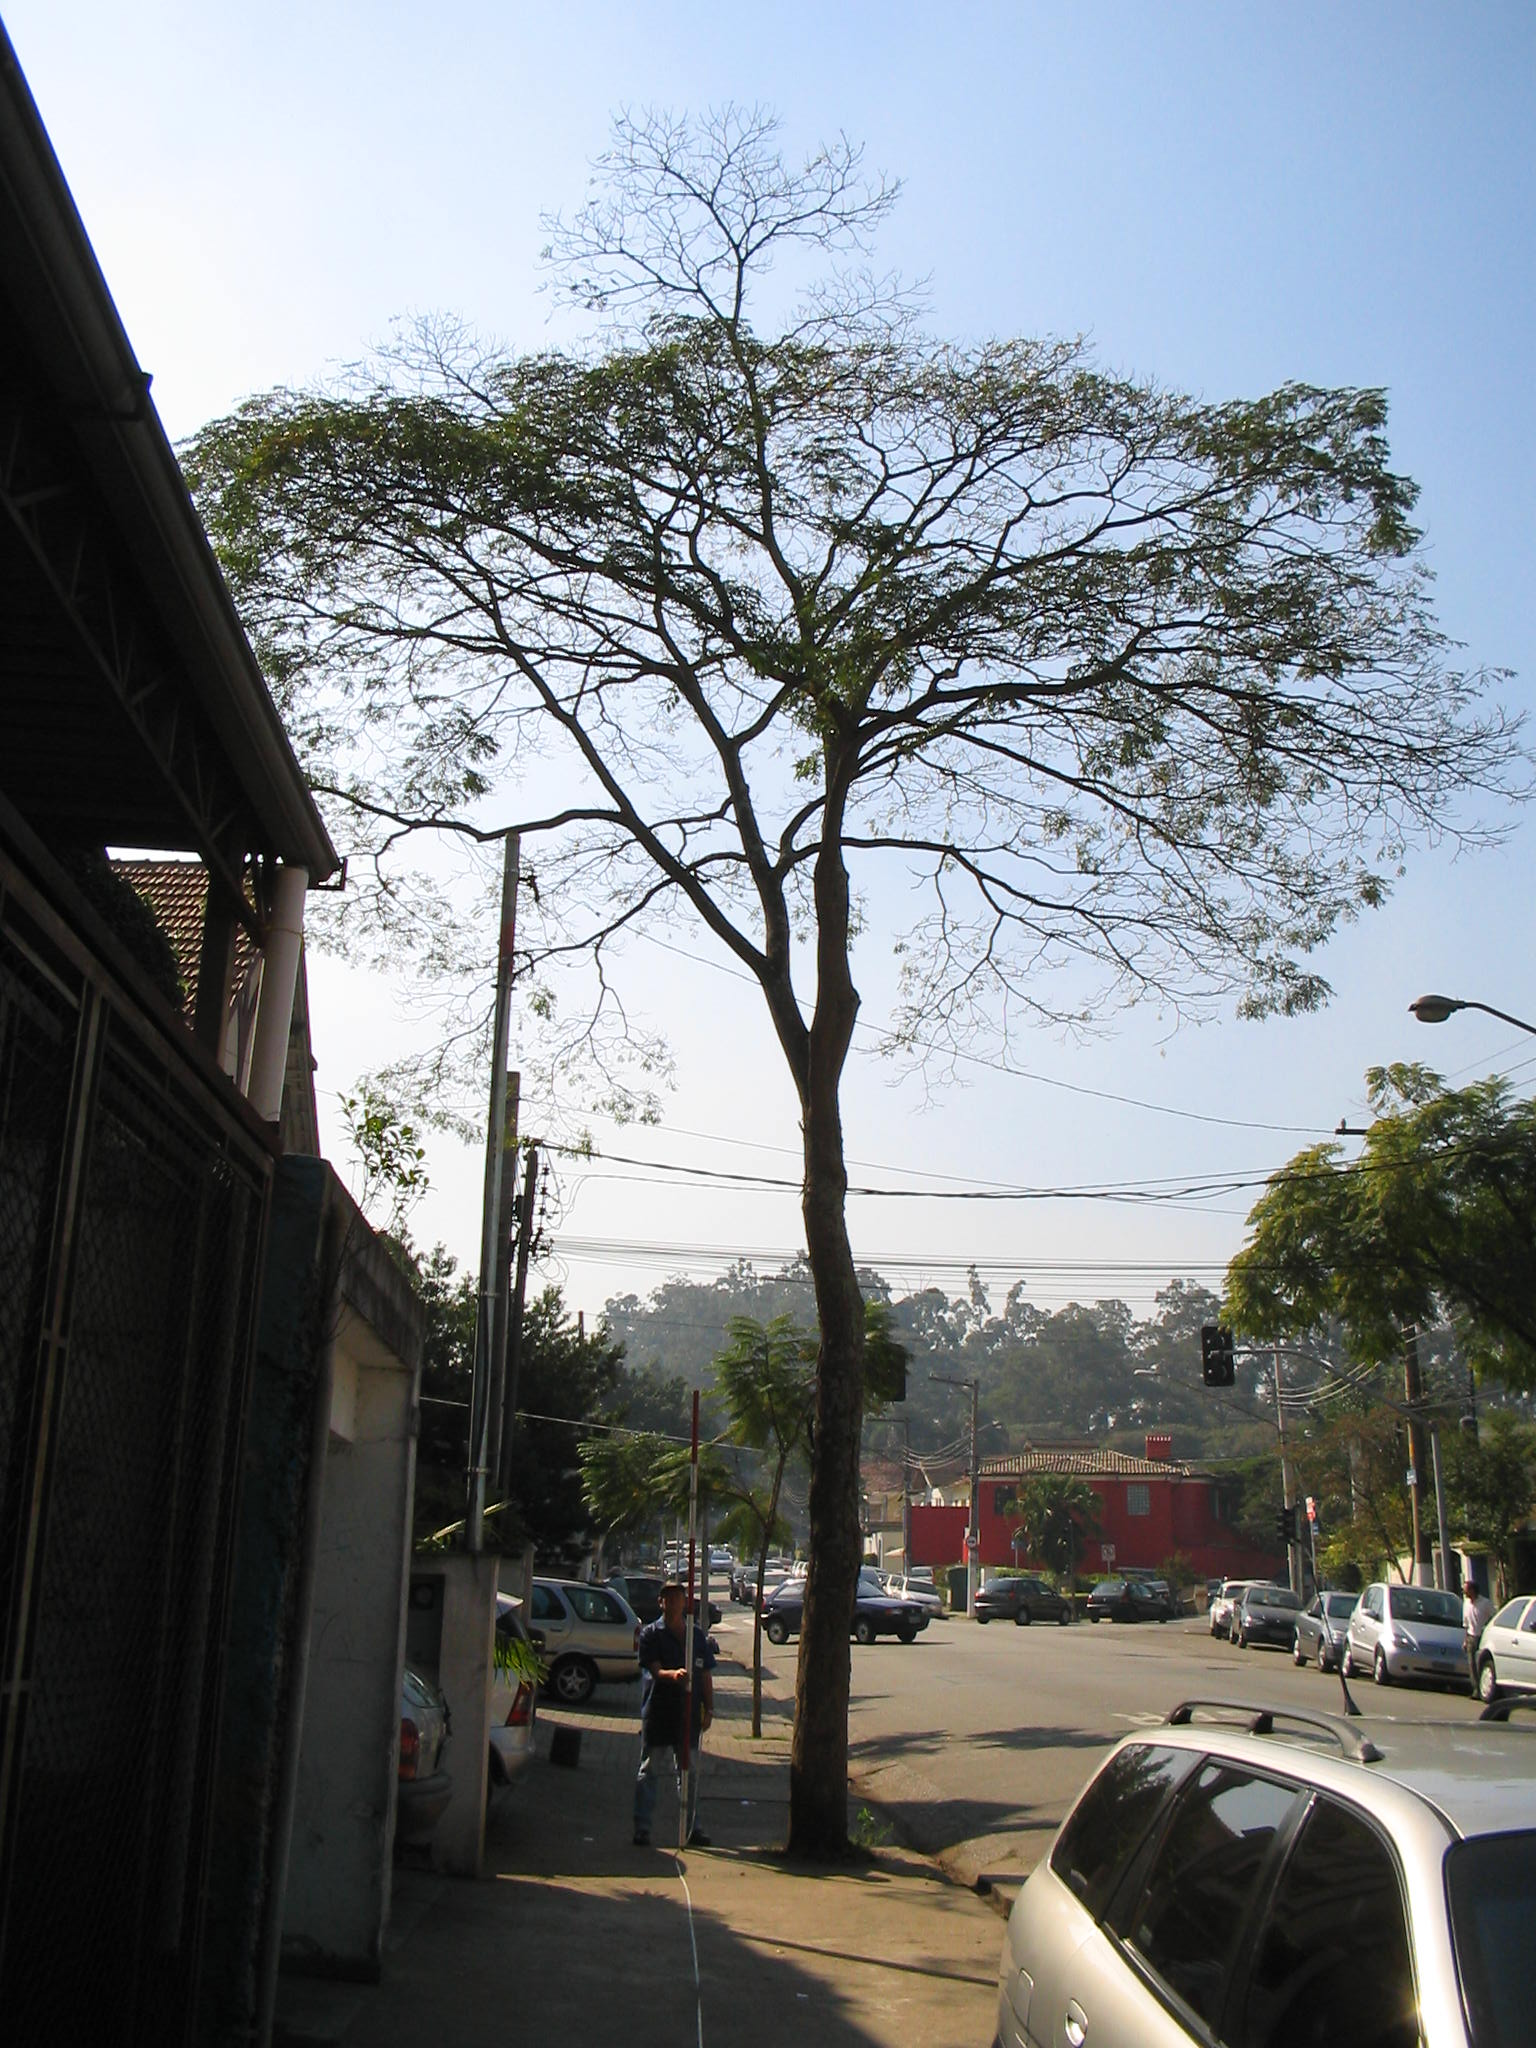crown: (153, 103, 1534, 1055)
stem: (745, 1085, 913, 1859)
stick: (662, 1388, 716, 1843)
tree: (148, 103, 1526, 1859)
